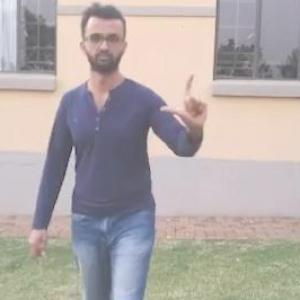land_hand: (157, 69, 215, 134)
